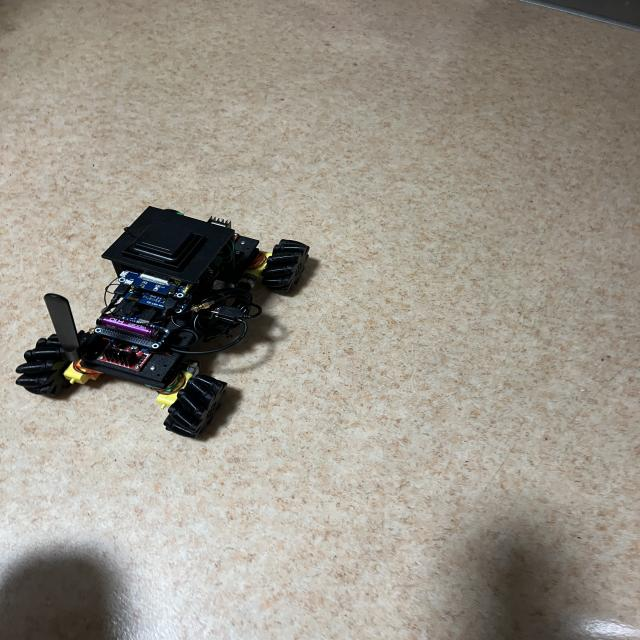robot: (16, 207, 309, 437)
